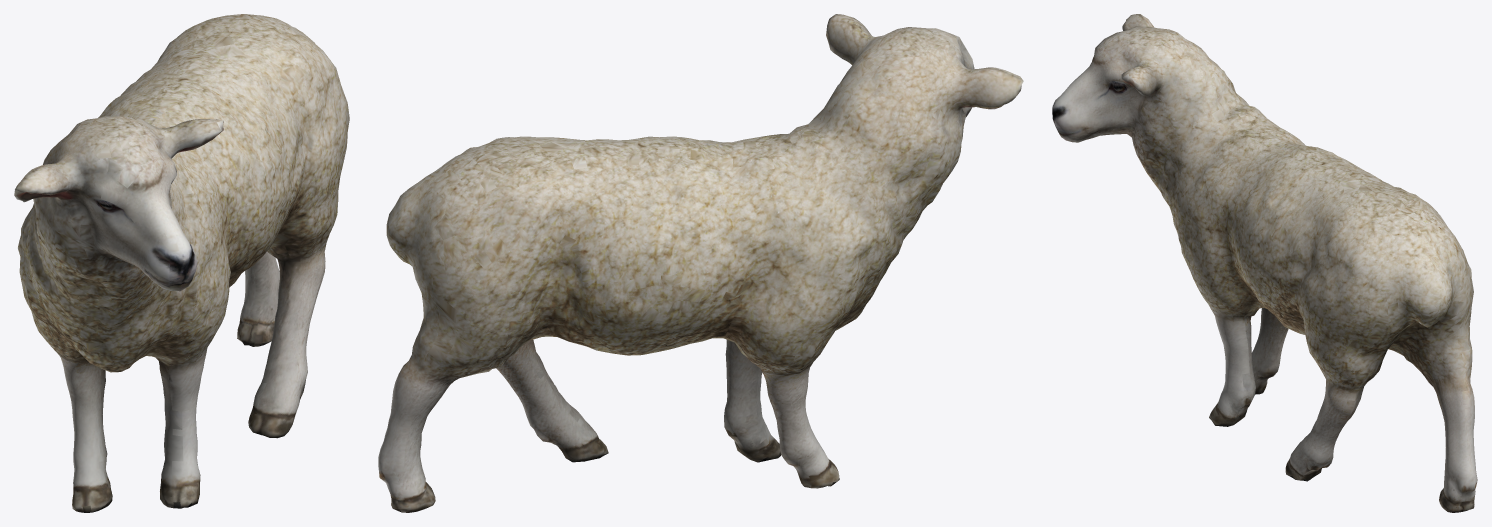
File: model11-sheep.glb
The picture shows the model from 3 angles, left to right: view 1: azimuth 30°, elevation 25°; view 2: azimuth 150°, elevation 25°; view 3: azimuth 270°, elevation 25°; orthographic projection. The views are drawn at different scales.
Visible parts, largest first — view 1: sheep; view 2: sheep; view 3: sheep.
Boxes of the visible parts, box(x1,y1,x2,y2) form: sheep: box(14, 14, 349, 512); sheep: box(378, 14, 1023, 512); sheep: box(1052, 14, 1477, 512).
Size of the model in its own units: 0.0611 by 0.053 by 0.0588.
Materials: 1 (1 with a texture image).
